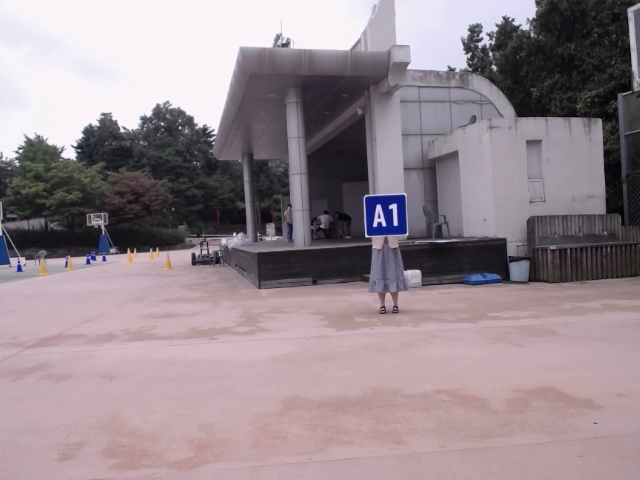delivery_a1: (364, 194, 408, 237)
